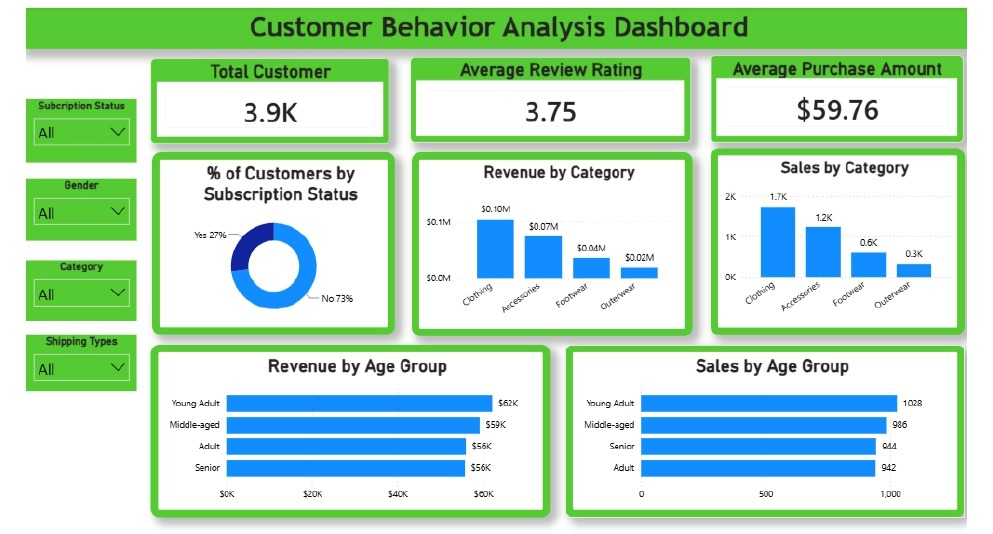

Layout of this report page (visuals, bound fields, positions):
{"tool":"powerbi","page":{"name":"Page 1","canvas":[1280,720],"ordinal":0},"visuals":[{"type":"textbox","box":[0,0,1279.4,56.7],"z":0},{"type":"cardVisual","title":"Total Customer","fields":{"Data":["Count(customer_behavior customer.customer_id)"]},"box":[168.2,69.9,323.2,115.3],"z":1000},{"type":"cardVisual","title":"Average Review Rating","fields":{"Data":["Avg(customer_behavior customer.review_rating)"]},"box":[519.7,68,379.8,115.3],"z":2000},{"type":"cardVisual","title":"Average Purchase Amount","fields":{"Data":["Avg(customer_behavior customer.purchase_amount)"]},"box":[926,66.1,342,117.2],"z":3000},{"type":"donutChart","title":"% of Customers by Subscription Status","fields":{"Category":["customer_behavior customer.subscription_status"],"Y":["CountNonNull(customer_behavior customer.customer_id)"]},"box":[170.1,196.5,328.8,247.6],"z":4000},{"type":"columnChart","title":"Revenue by Category","fields":{"Category":["customer_behavior customer.category"],"Y":["Sum(customer_behavior customer.purchase_amount)"]},"box":[521.6,196.5,379.8,249.5],"z":5000},{"type":"columnChart","title":"Sales by Category","fields":{"Category":["customer_behavior customer.category"],"Y":["CountNonNull(customer_behavior customer.customer_id)"]},"box":[926,190.9,343.9,253.2],"z":6000},{"type":"clusteredBarChart","title":"Revenue by Age Group","fields":{"Category":["customer_behavior customer.age_group"],"Y":["Sum(customer_behavior customer.purchase_amount)"]},"box":[168.2,457.3,540.5,232.4],"z":7000},{"type":"clusteredBarChart","title":"Sales by Age Group","fields":{"Category":["customer_behavior customer.age_group"],"Y":["CountNonNull(customer_behavior customer.customer_id)"]},"box":[729.5,457.3,540.5,232.4],"z":8000},{"type":"slicer","title":"Subcription Status","fields":{"Values":["customer_behavior customer.subscription_status"]},"box":[0,124.7,149.3,85],"z":9000},{"type":"slicer","title":"Gender","fields":{"Values":["customer_behavior customer.gender"]},"box":[0,232.4,149.3,83.2],"z":10000},{"type":"slicer","title":"Category","fields":{"Values":["customer_behavior customer.category"]},"box":[0,342,149.3,81.3],"z":11000},{"type":"slicer","title":"Shipping Types","fields":{"Values":["customer_behavior customer.shipping_type"]},"box":[0,444.1,149.3,75.6],"z":12000}]}

Visuals, with their boxes in screenshot pixels (x1, y1, x2, y2):
textbox: (28,5,966,47)
"Total Customer" cardVisual: (152,56,389,141)
"Average Review Rating" cardVisual: (409,55,688,140)
"Average Purchase Amount" cardVisual: (707,54,958,140)
"% of Customers by Subscription Status" donutChart: (153,149,394,331)
"Revenue by Category" columnChart: (411,149,689,332)
"Sales by Category" columnChart: (707,145,960,331)
"Revenue by Age Group" clusteredBarChart: (152,340,548,511)
"Sales by Age Group" clusteredBarChart: (563,340,960,511)
"Subcription Status" slicer: (28,97,138,159)
"Gender" slicer: (28,176,138,237)
"Category" slicer: (28,256,138,316)
"Shipping Types" slicer: (28,331,138,386)
